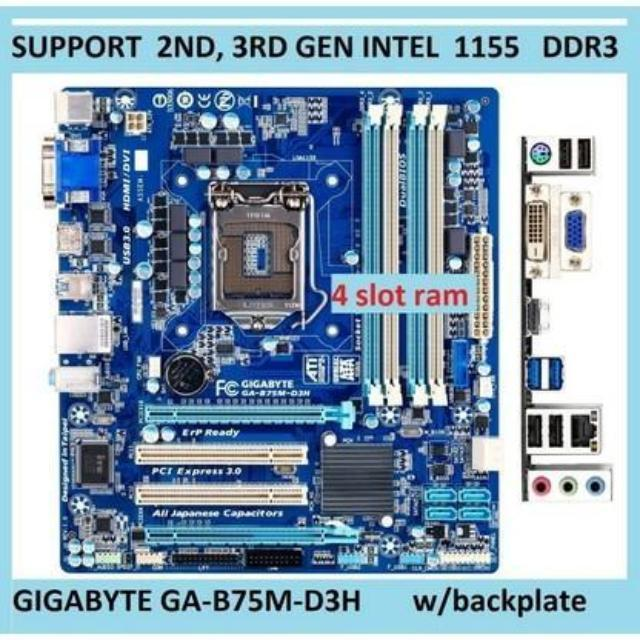Mainboard: (38, 78, 504, 574)
